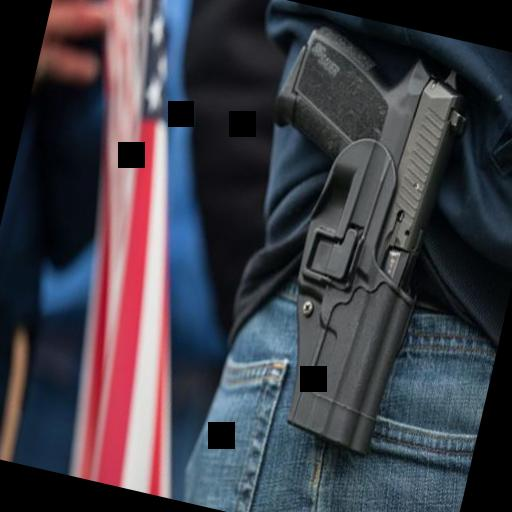Handgun: (194, 16, 490, 478)
